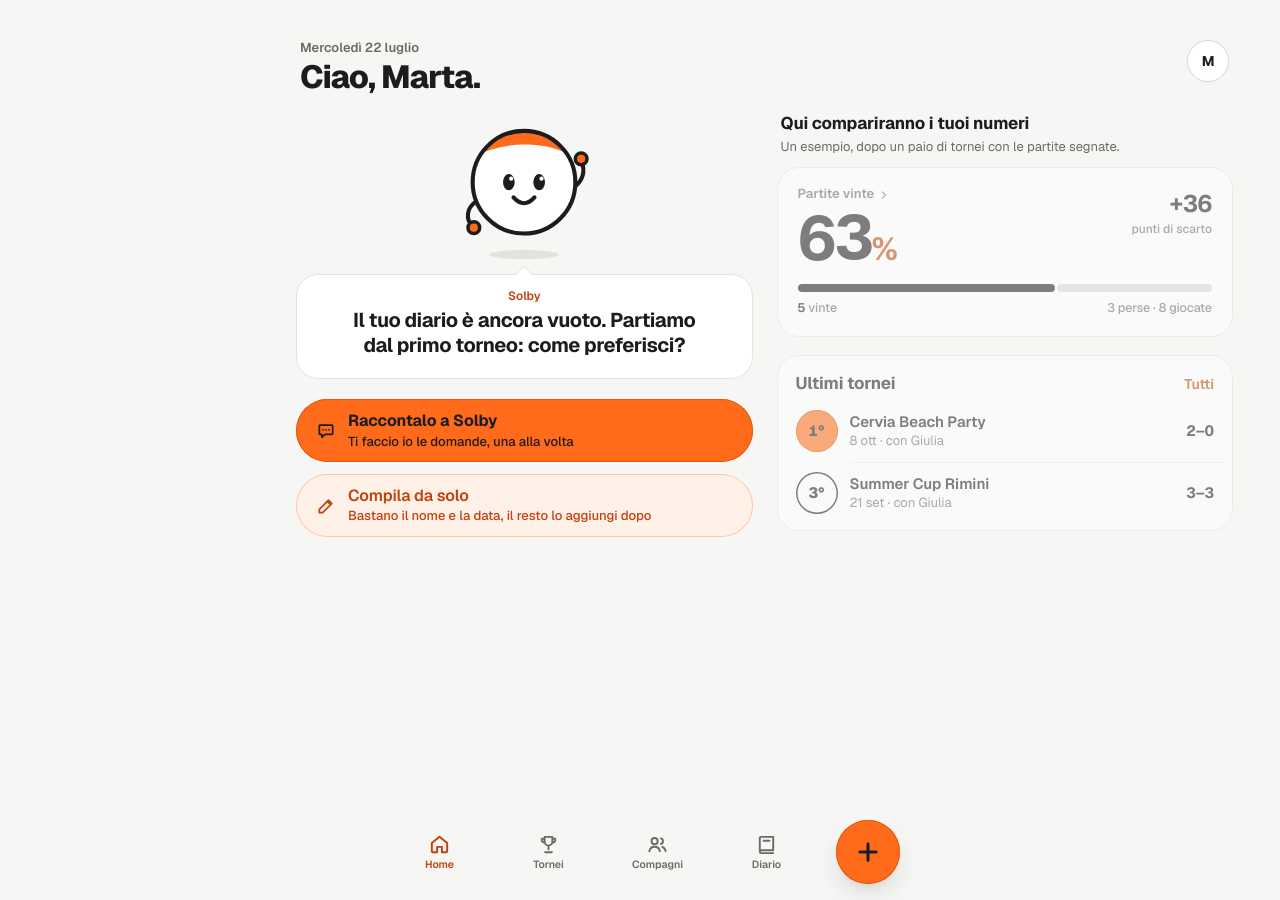
Test: stati di §6 — non trovato, primo avvio, primo caricamento fallito › primo avvio: «Raccontalo a Solby» apre l'assistente
The width and height of the screenshot is (1280, 900).
Click the link "Raccontalo a Solby".
click(524, 431)  # box [296,399,752,462]
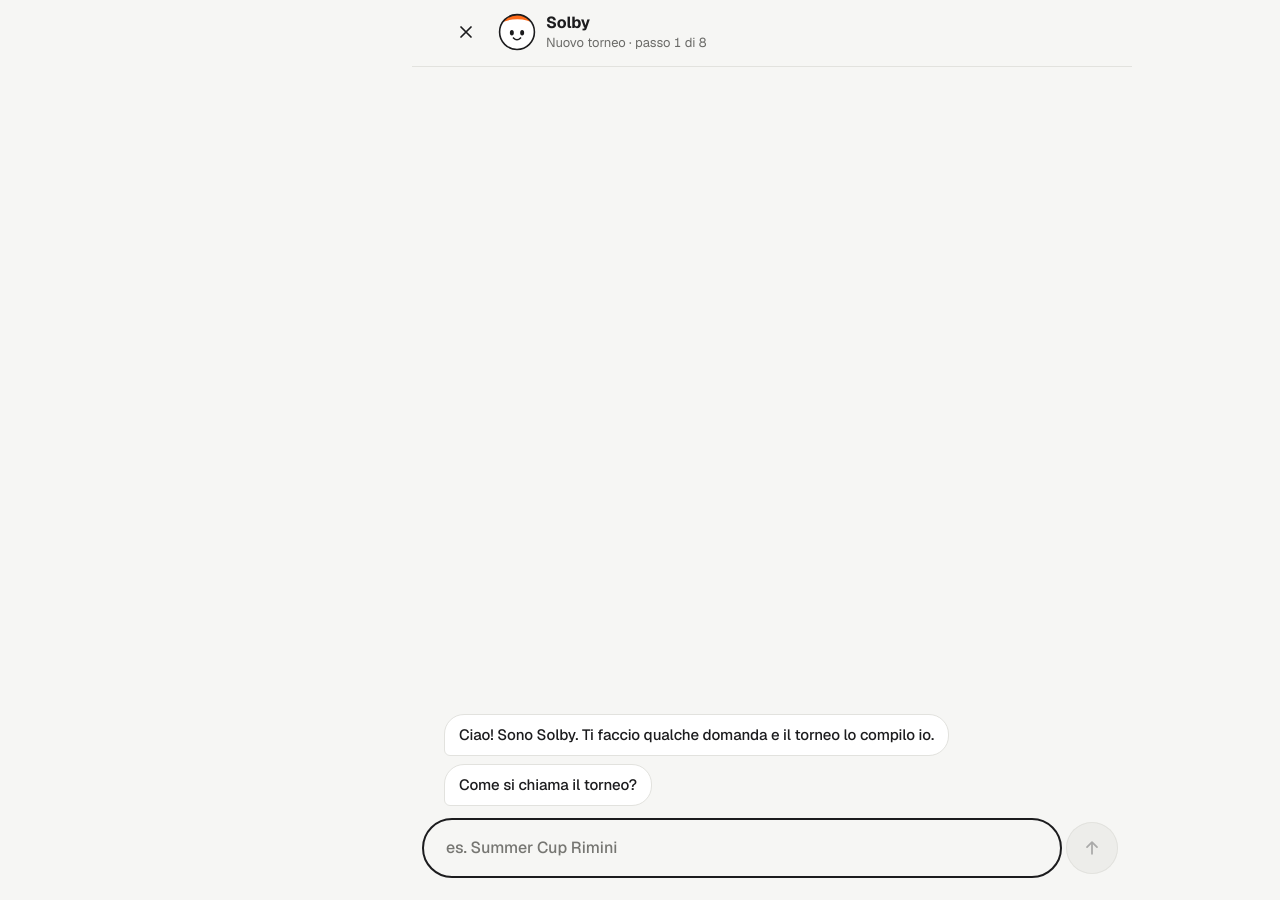
Now the field named "Come si chiama il torneo?" is shown, box [444,835,1040,861]
